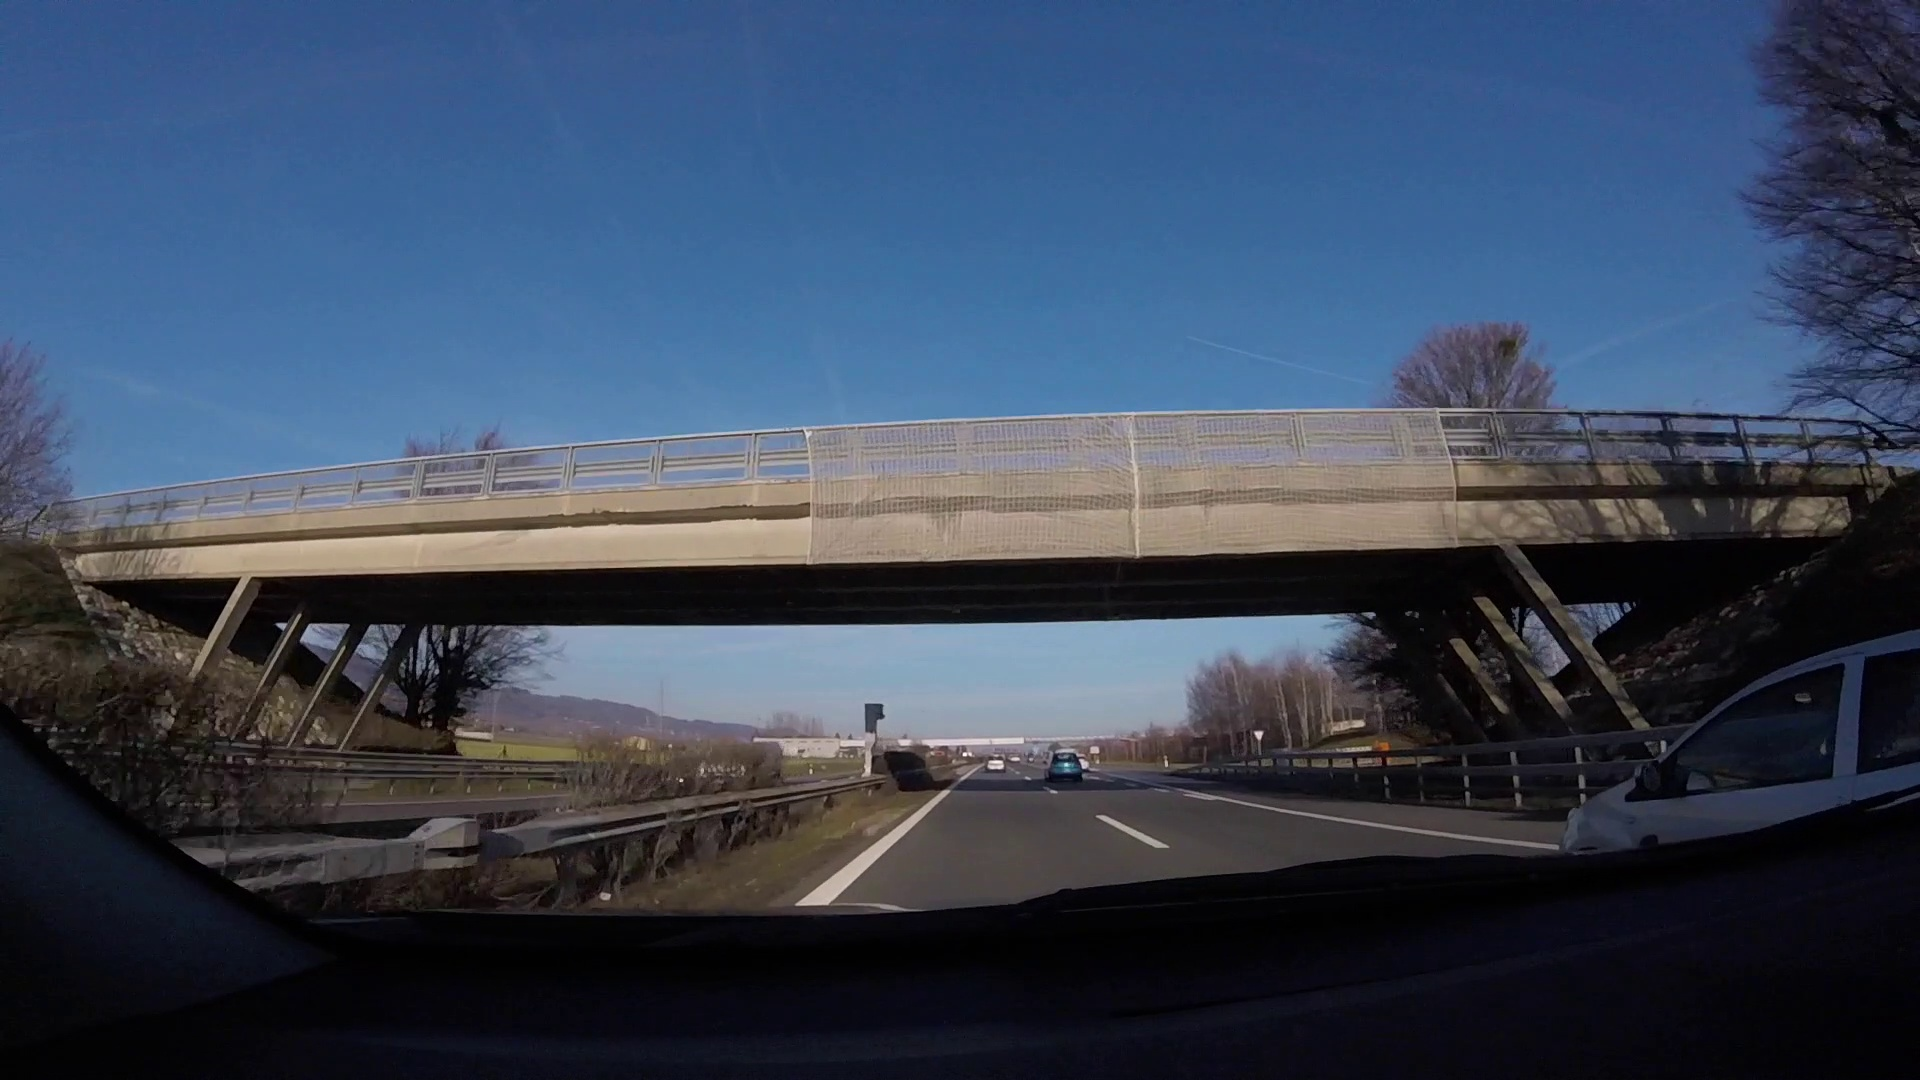radar: (862, 702, 885, 778)
